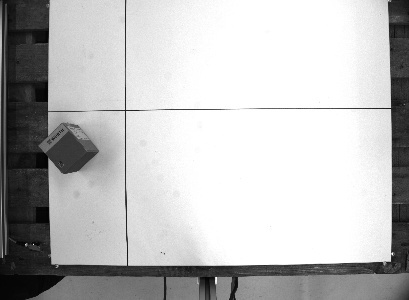b7: (35, 119, 99, 176)
